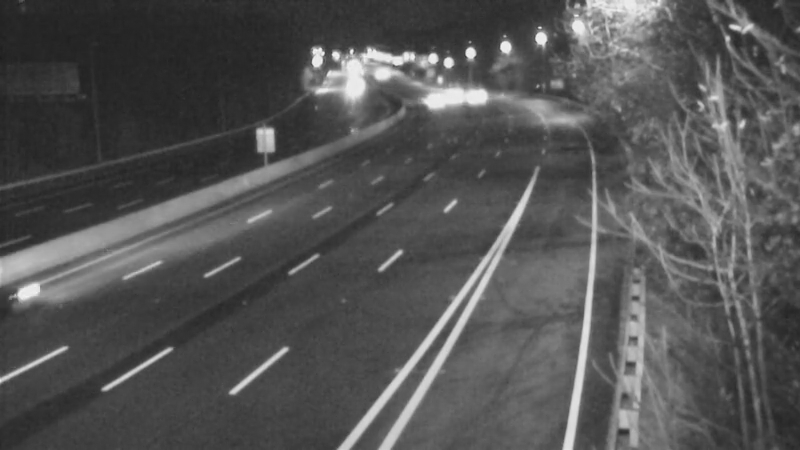vehicle: (424, 66, 474, 116), (404, 76, 454, 126), (451, 70, 501, 120), (330, 63, 380, 113)
